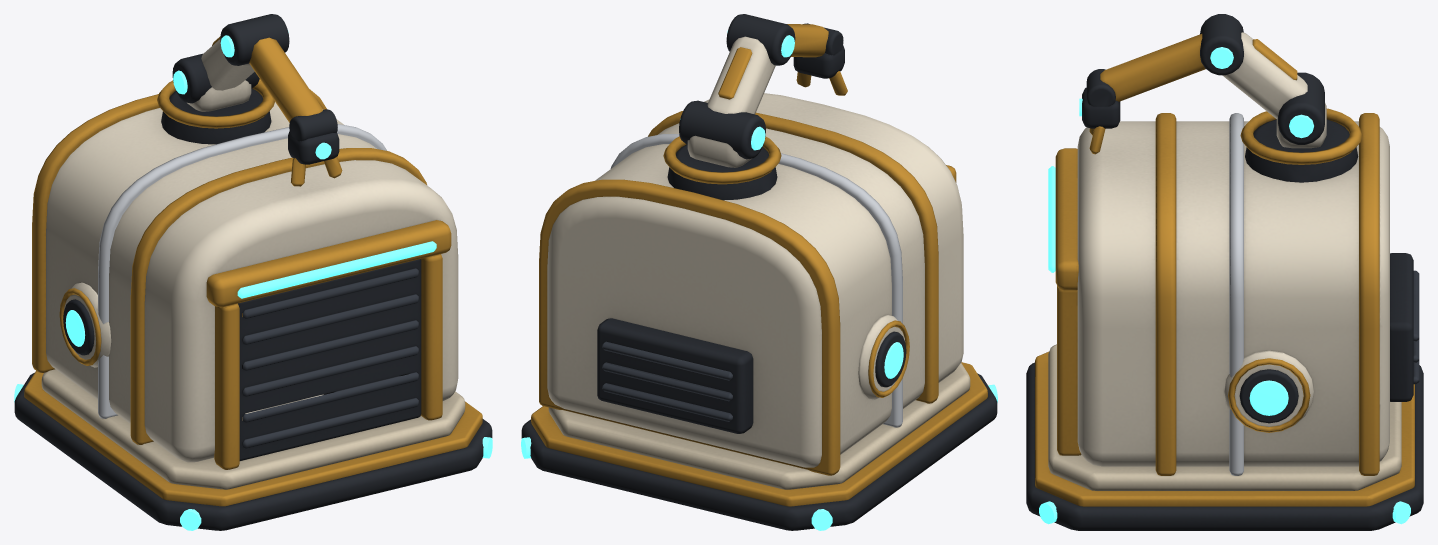
Rendered from ambron_assembly.glb.
The picture shows the model from 3 angles, left to right: view 1: azimuth 30°, elevation 25°; view 2: azimuth 150°, elevation 25°; view 3: azimuth 270°, elevation 25°; orthographic projection. The views are drawn at different scales.
Visible parts, largest first — view 1: ambron_assembly; view 2: ambron_assembly; view 3: ambron_assembly.
Boxes of the visible parts, <box> form: ambron_assembly: <box>14,14,492,530</box>; ambron_assembly: <box>521,14,997,530</box>; ambron_assembly: <box>1026,14,1423,530</box>.
Size of the model in its own units: 2.7 by 3.19 by 2.7.
Materials: 3 (1 with a texture image).
